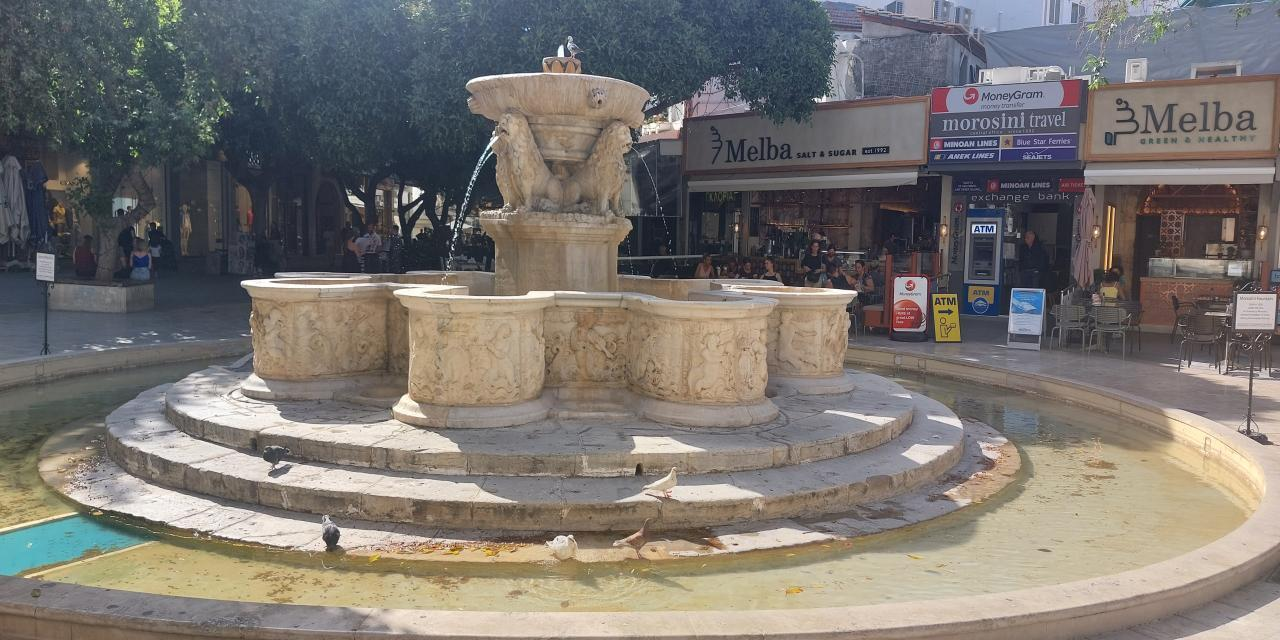Liontaria: (244, 46, 861, 427)
